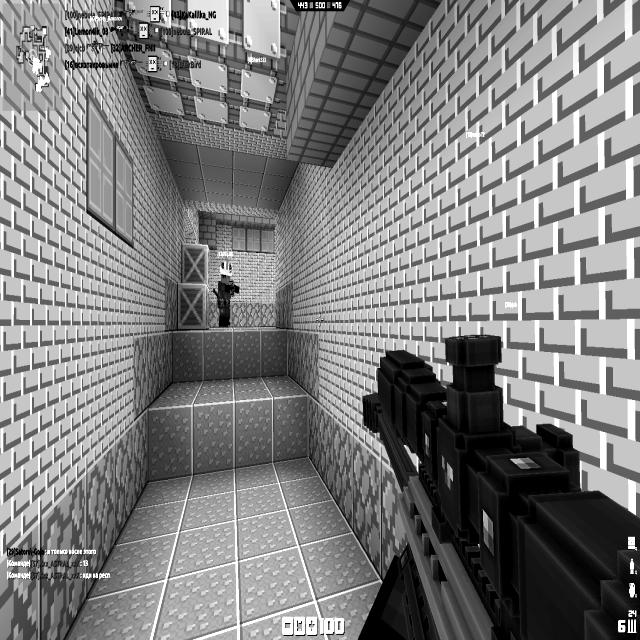Head: (220, 262, 233, 284)
Player: (212, 259, 240, 326)
